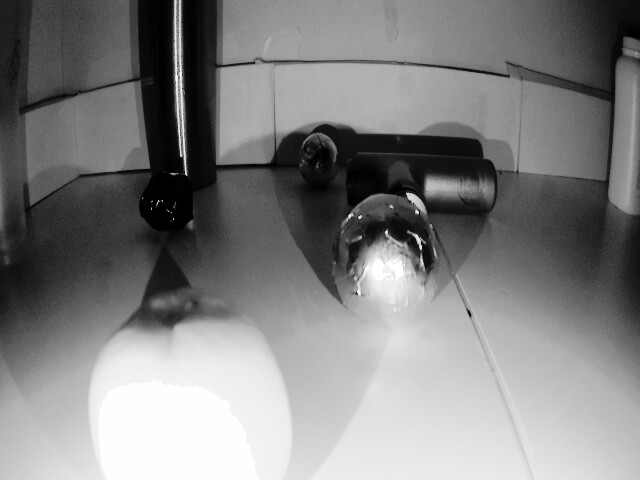black: (140, 173, 198, 234)
silver: (337, 188, 433, 321), (298, 127, 340, 183)
